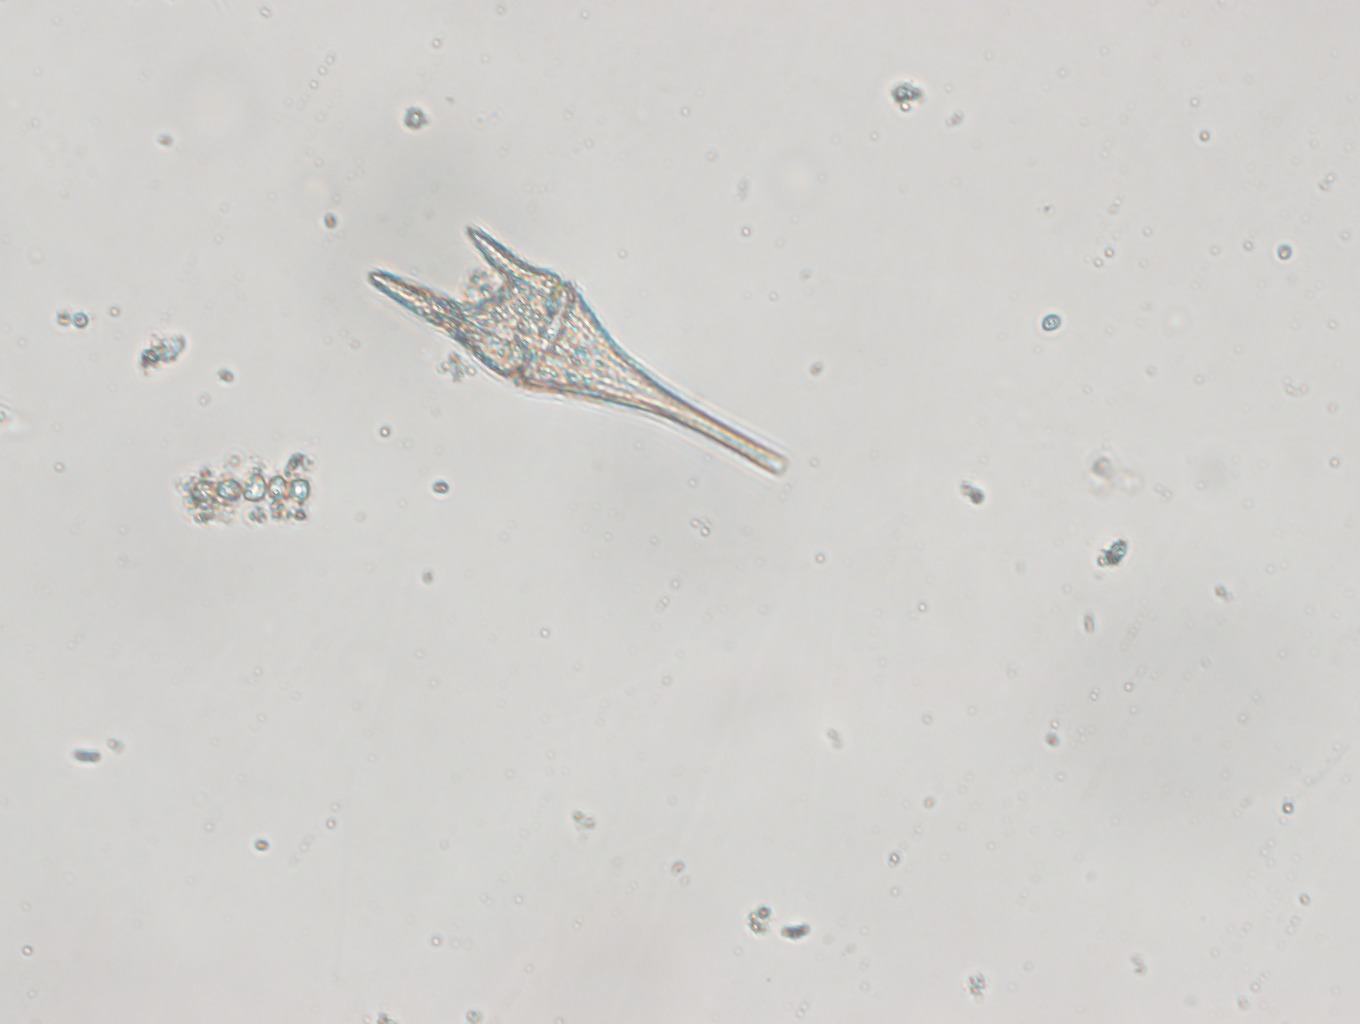ceratium furca: (368, 222, 792, 479)
